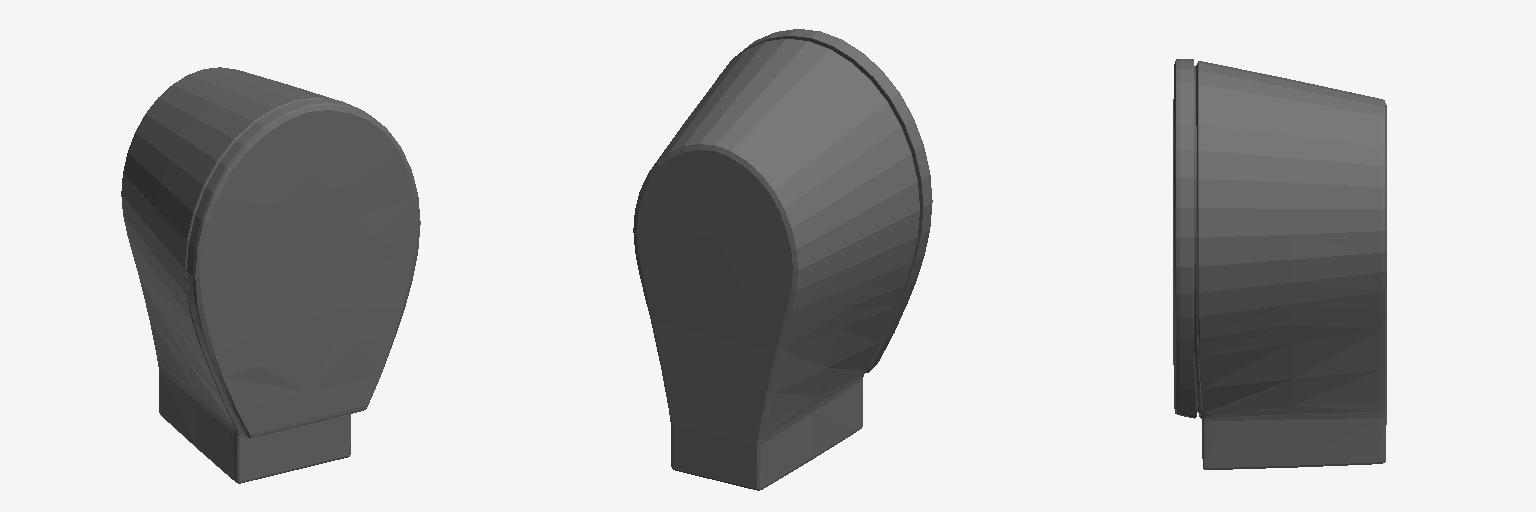
The model's file is ToiletBowl.obj.
The picture shows the model from 3 angles: view 1: azimuth 30°, elevation 25°; view 2: azimuth 150°, elevation 25°; view 3: azimuth 270°, elevation 25°; orthographic projection.
Visible parts, largest first — view 1: Toilet Hanging 01; view 2: Toilet Hanging 01; view 3: Toilet Hanging 01.
Boxes of the visible parts, x1,y1,x2,y2 form: Toilet Hanging 01: [121, 67, 420, 483]; Toilet Hanging 01: [633, 29, 932, 490]; Toilet Hanging 01: [1173, 59, 1386, 469].
Size of the model in its own units: 0.4446 by 0.7019 by 0.3643.